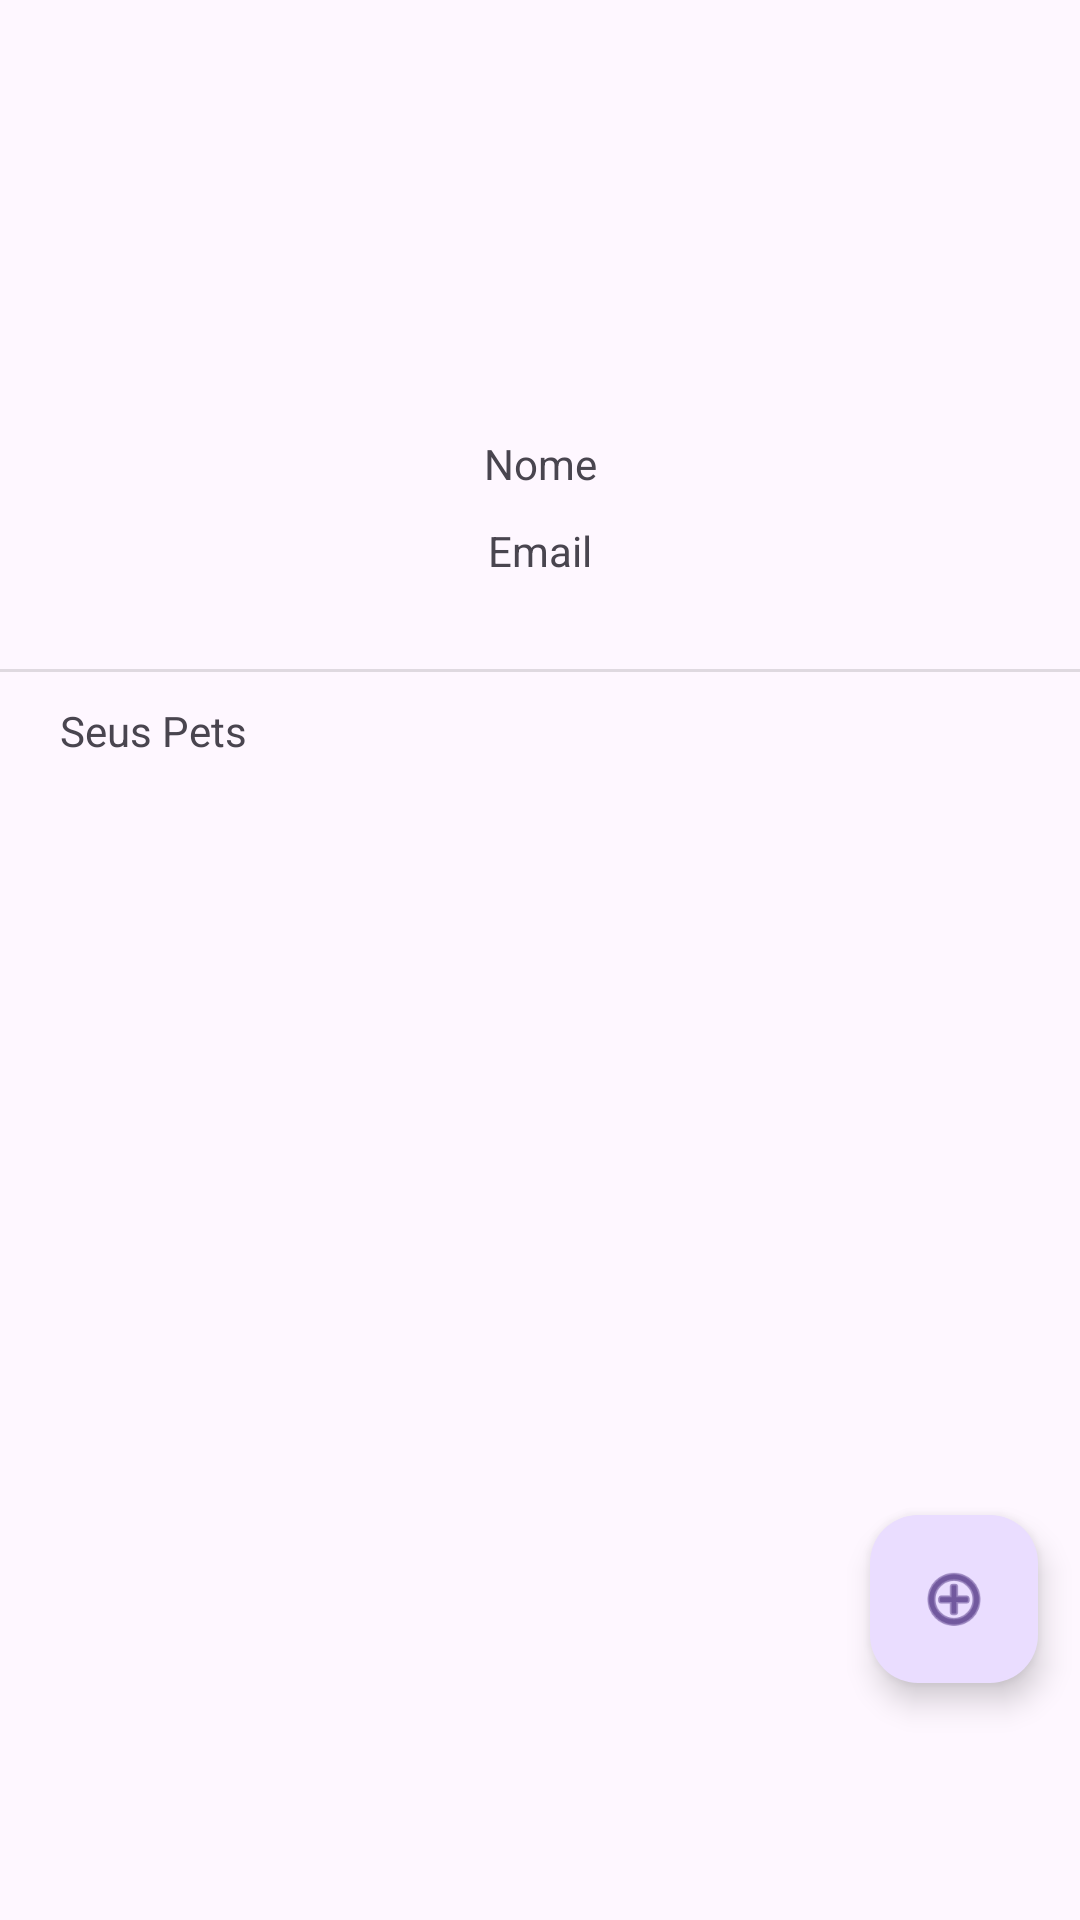

Icon bounding boxes for this 1080*1920 phone screenshot, format (x1, y1, x2, y2):
add: (870, 1515, 1038, 1683)
